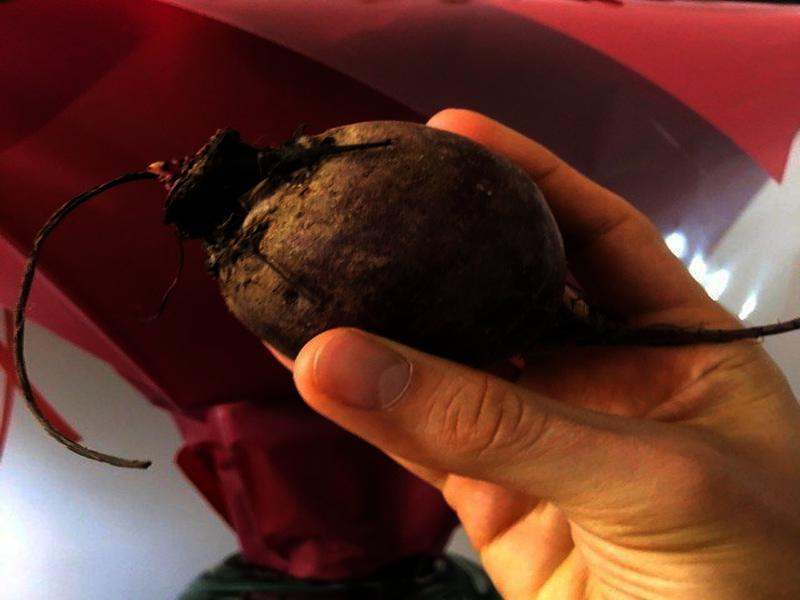Beet: (12, 120, 796, 468)
